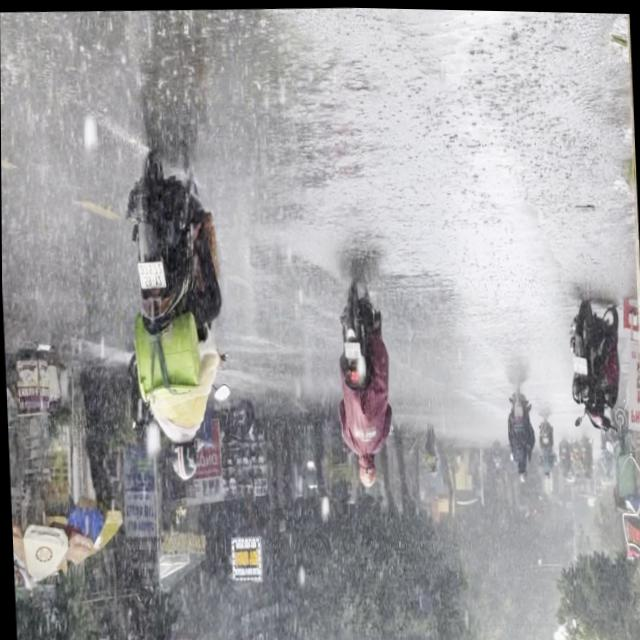helmet: (167, 433, 196, 481), (355, 453, 374, 485)
licenseplate: (117, 138, 231, 487), (328, 266, 394, 489)
nohelmet: (136, 260, 162, 287), (342, 340, 359, 357)
